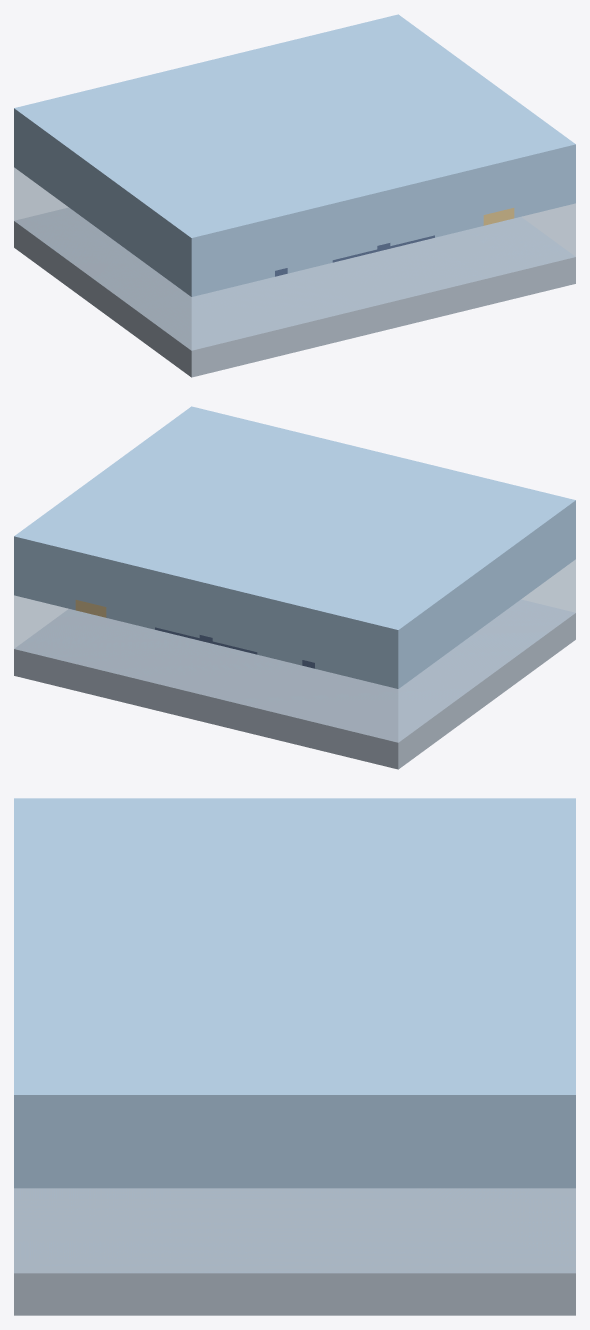
Rendered from stack-waveguides.glb.
3 views of the same model, one above another, from view 1: azimuth 30°, elevation 25°; view 2: azimuth 150°, elevation 25°; view 3: azimuth 270°, elevation 25° (orthographic). The views are drawn at different scales.
Visible parts, largest first — view 1: cladd, sisub, box; view 2: cladd, sisub, box; view 3: cladd, sisub, box.
Boxes of the visible parts, x1,y1,x2,y2 form: cladd: (14, 14, 575, 296); sisub: (14, 207, 575, 377); box: (14, 167, 575, 350); cladd: (14, 406, 575, 688); sisub: (14, 599, 575, 769); box: (14, 559, 575, 742); cladd: (14, 798, 575, 1188); sisub: (14, 1188, 575, 1315); box: (14, 1188, 575, 1272).
Size of the model in its own units: 15 by 5.2 by 12.
